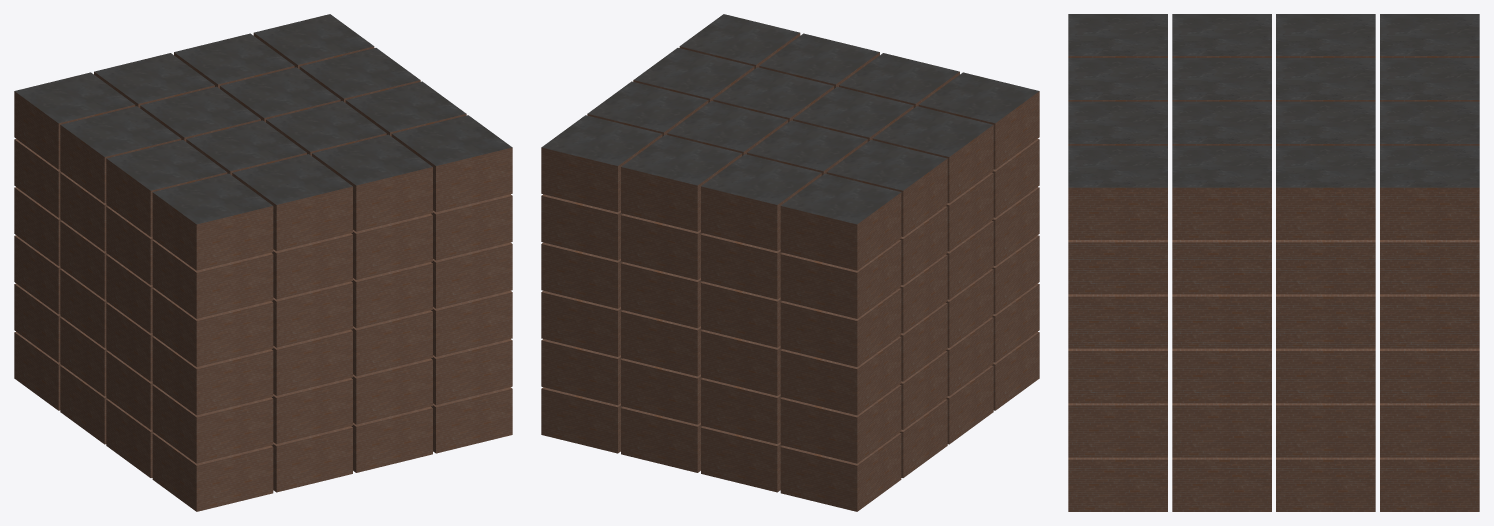
The model's file is Building_Large_2_destructible.gltf.
The picture shows the model from 3 angles, left to right: view 1: azimuth 30°, elevation 25°; view 2: azimuth 150°, elevation 25°; view 3: azimuth 270°, elevation 25°; orthographic projection. The views are drawn at different scales.
Visible parts, largest first — view 1: block_f5_r3_c0, block_f5_r3_c1, block_f5_r3_c3, block_f5_r3_c2, block_f4_r3_c0, block_f3_r3_c0, block_f0_r3_c0, block_f1_r3_c0, block_f2_r3_c0, block_f5_r0_c0, block_f5_r1_c0, block_f5_r2_c0 (+39 smaller); view 2: block_f5_r0_c0, block_f5_r0_c1, block_f5_r0_c3, block_f5_r0_c2, block_f4_r0_c0, block_f3_r0_c0, block_f0_r0_c0, block_f1_r0_c0, block_f2_r0_c0, block_f5_r3_c0, block_f5_r2_c0, block_f5_r1_c0 (+39 smaller); view 3: block_f5_r0_c3, block_f5_r1_c3, block_f5_r2_c3, block_f5_r3_c3, block_f2_r0_c3, block_f2_r1_c3, block_f2_r2_c3, block_f2_r3_c3, block_f0_r0_c3, block_f0_r1_c3, block_f0_r2_c3, block_f0_r3_c3 (+24 smaller).
Boxes of the visible parts, bbox=[...] form: block_f5_r3_c0: bbox=[152, 173, 273, 270]; block_f5_r3_c1: bbox=[232, 154, 352, 251]; block_f5_r3_c3: bbox=[391, 115, 512, 212]; block_f5_r3_c2: bbox=[312, 134, 432, 231]; block_f4_r3_c0: bbox=[152, 240, 273, 318]; block_f3_r3_c0: bbox=[152, 288, 273, 366]; block_f0_r3_c0: bbox=[152, 433, 273, 511]; block_f1_r3_c0: bbox=[152, 384, 273, 463]; block_f2_r3_c0: bbox=[152, 336, 273, 415]; block_f5_r0_c0: bbox=[14, 72, 135, 169]; block_f5_r1_c0: bbox=[60, 106, 181, 203]; block_f5_r2_c0: bbox=[106, 140, 227, 236]; block_f5_r0_c0: bbox=[780, 173, 901, 270]; block_f5_r0_c1: bbox=[701, 154, 821, 251]; block_f5_r0_c3: bbox=[541, 115, 662, 212]; block_f5_r0_c2: bbox=[621, 134, 741, 231]; block_f4_r0_c0: bbox=[780, 240, 901, 318]; block_f3_r0_c0: bbox=[780, 288, 901, 366]; block_f0_r0_c0: bbox=[780, 433, 901, 511]; block_f1_r0_c0: bbox=[780, 384, 901, 463]; block_f2_r0_c0: bbox=[780, 336, 901, 415]; block_f5_r3_c0: bbox=[918, 72, 1039, 169]; block_f5_r2_c0: bbox=[872, 106, 993, 203]; block_f5_r1_c0: bbox=[826, 140, 947, 236]; block_f5_r0_c3: bbox=[1380, 145, 1479, 239]; block_f5_r1_c3: bbox=[1276, 145, 1375, 239]; block_f5_r2_c3: bbox=[1172, 145, 1271, 239]; block_f5_r3_c3: bbox=[1068, 145, 1167, 239]; block_f2_r0_c3: bbox=[1380, 348, 1479, 403]; block_f2_r1_c3: bbox=[1276, 348, 1375, 403]; block_f2_r2_c3: bbox=[1172, 348, 1271, 403]; block_f2_r3_c3: bbox=[1068, 348, 1167, 403]; block_f0_r0_c3: bbox=[1380, 457, 1479, 511]; block_f0_r1_c3: bbox=[1276, 457, 1375, 511]; block_f0_r2_c3: bbox=[1172, 457, 1271, 511]; block_f0_r3_c3: bbox=[1068, 457, 1167, 511].
Size of the model in its own units: 11.88 by 10.33 by 11.88.
Materials: 3 (3 with a texture image).
